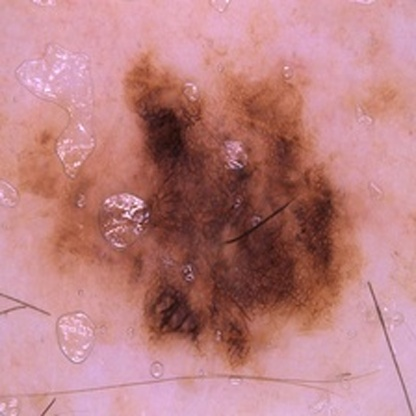malignant: (99, 85, 368, 323)
